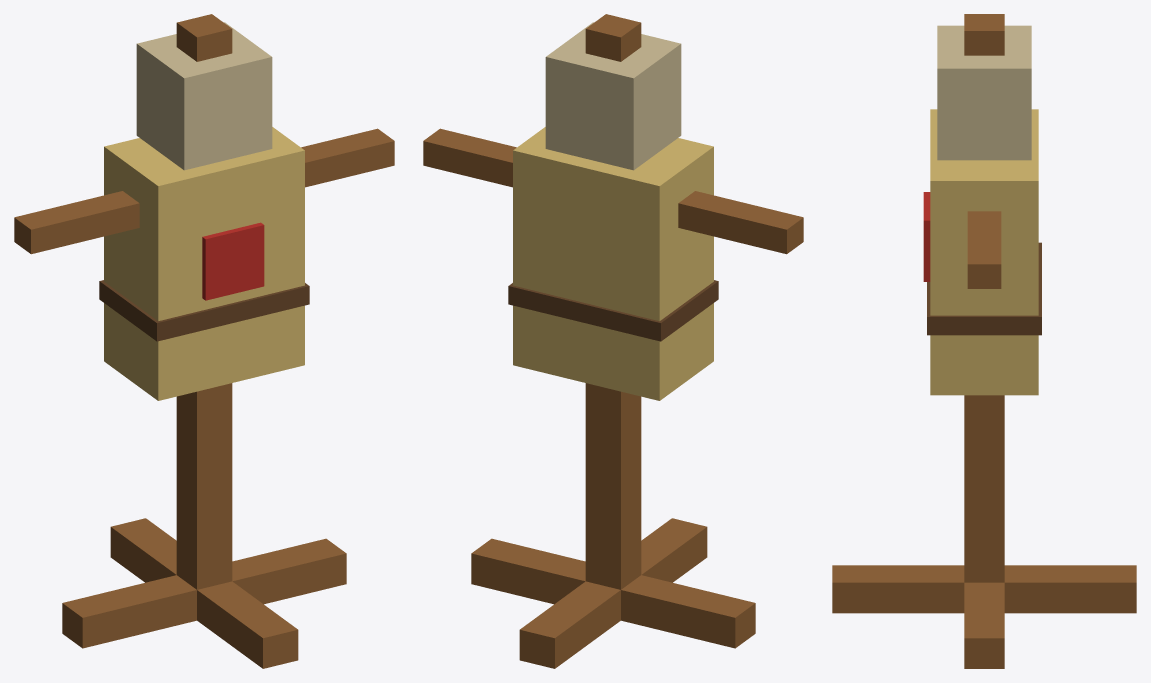
The model's file is camp_dummy.glb.
3 views of the same model, side by side, from view 1: azimuth 30°, elevation 25°; view 2: azimuth 150°, elevation 25°; view 3: azimuth 270°, elevation 25° (orthographic).
Visible parts, largest first — view 1: camp_dummy; view 2: camp_dummy; view 3: camp_dummy.
Part boxes in pixels (<box>): camp_dummy: <box>14,14,394,668</box>; camp_dummy: <box>423,14,803,668</box>; camp_dummy: <box>832,14,1136,668</box>.
Size of the model in its own units: 1.24 by 1.9 by 0.9.
Materials: 1 (1 with a texture image).
